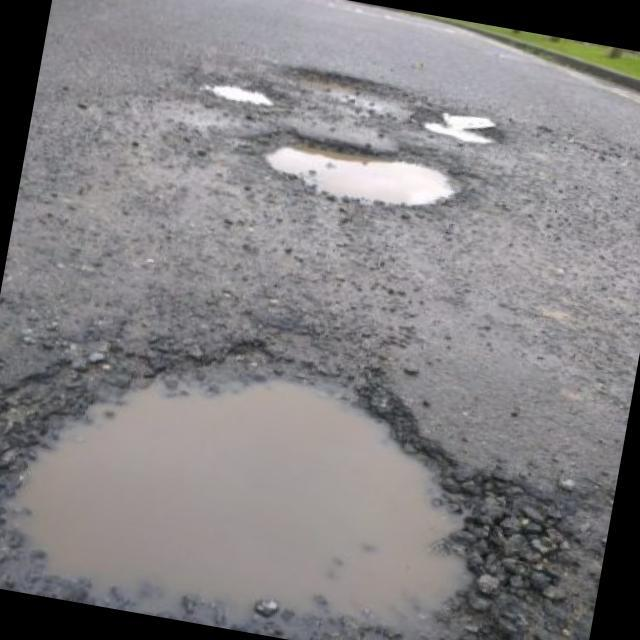Pothole: (0, 292, 522, 640), (242, 124, 469, 218), (292, 54, 426, 132), (426, 103, 512, 154), (204, 72, 275, 108)
